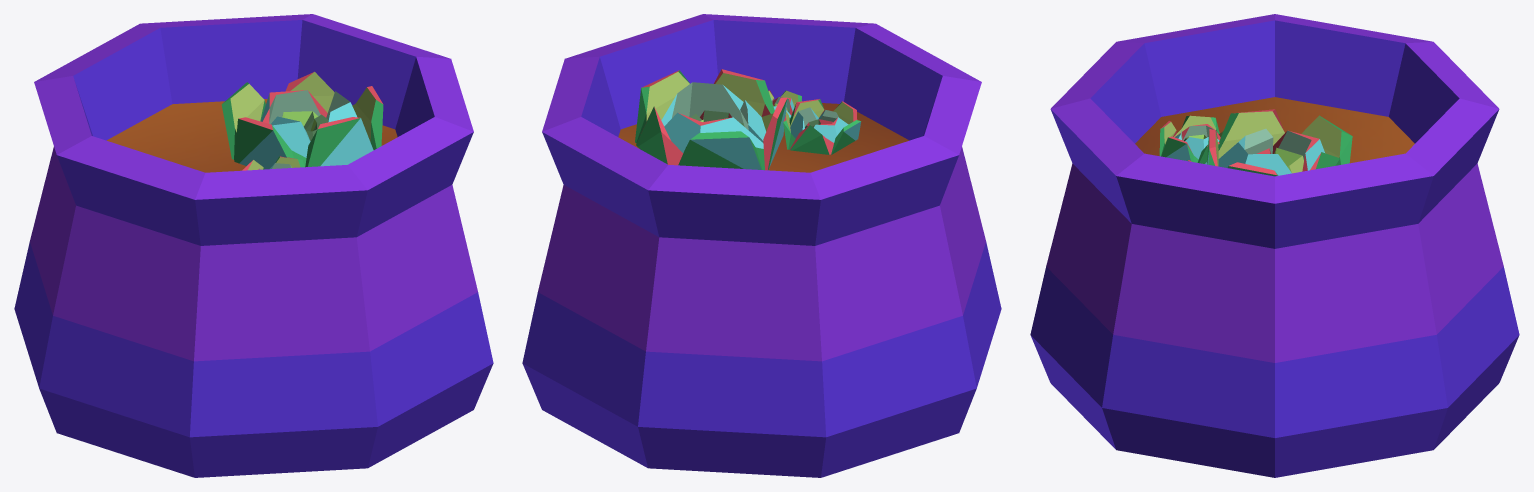
File: Garden_FloorPlanter_Succulents01.fbx
The picture shows the model from 3 angles, left to right: view 1: azimuth 30°, elevation 25°; view 2: azimuth 150°, elevation 25°; view 3: azimuth 270°, elevation 25°; orthographic projection.
Visible parts, largest first — view 1: Cylinder.087; view 2: Cylinder.087; view 3: Cylinder.087.
Part boxes in pixels (bbox=[...]): Cylinder.087: bbox=[14, 14, 493, 477]; Cylinder.087: bbox=[522, 14, 1001, 477]; Cylinder.087: bbox=[1030, 14, 1519, 477].
Bounding box in the file's own units: 42.55 × 27.32 × 42.55.
